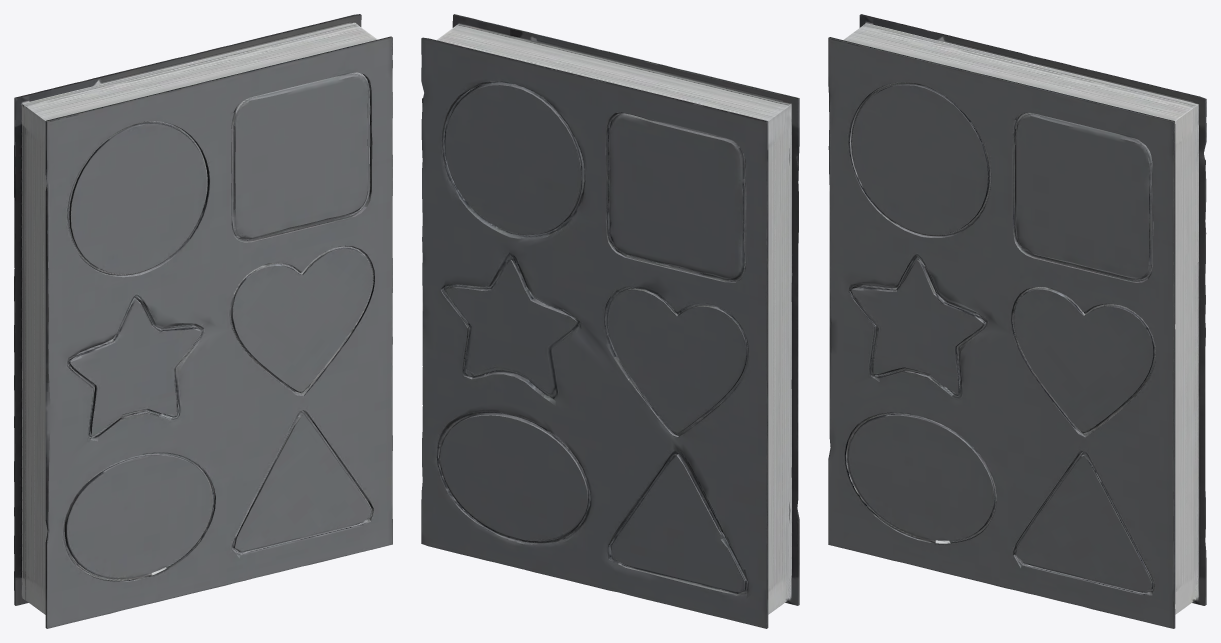
File: stickers.glb
The picture shows the model from 3 angles, left to right: view 1: azimuth 30°, elevation 25°; view 2: azimuth 150°, elevation 25°; view 3: azimuth 330°, elevation 25°; orthographic projection.
Bounding box in the file's own units: 1.36 × 1.9 × 0.2235.
1 material, 1 textured.
